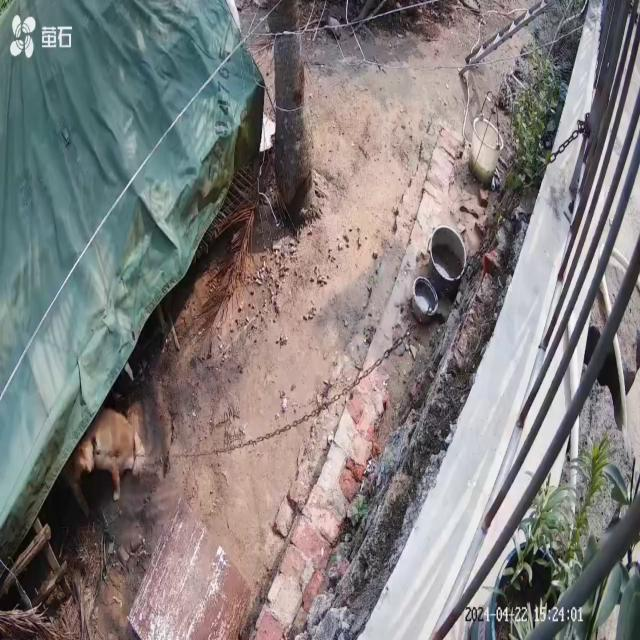dog: (66, 404, 147, 519)
